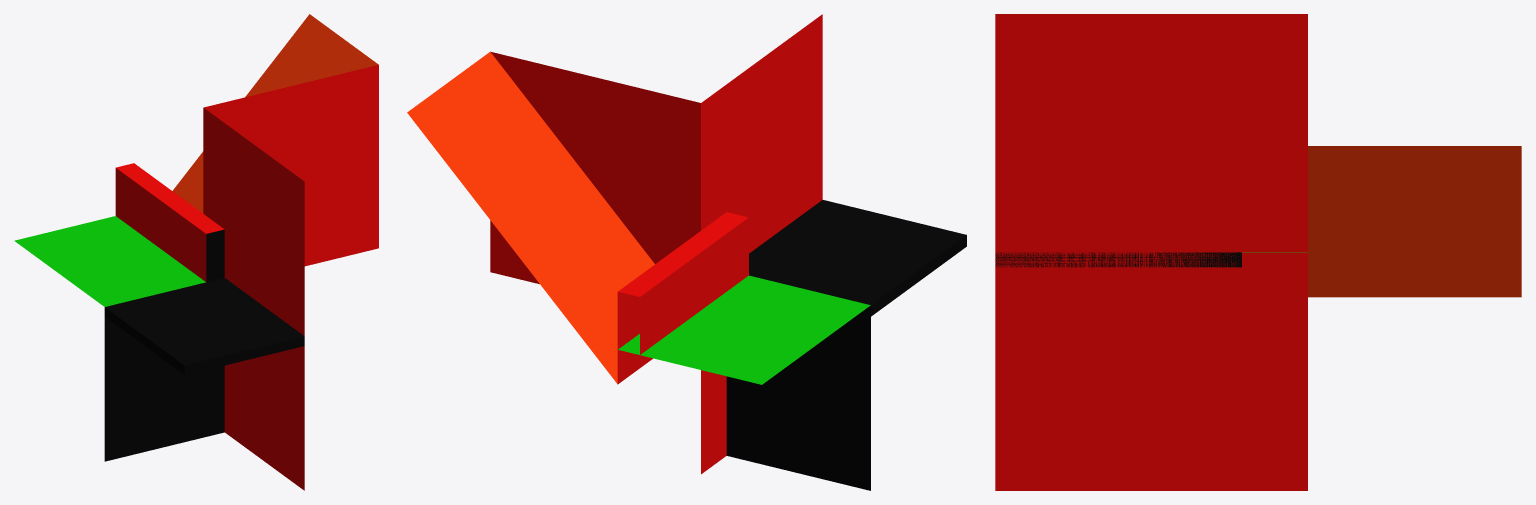
3 views of the same model, side by side, from view 1: azimuth 30°, elevation 25°; view 2: azimuth 150°, elevation 25°; view 3: azimuth 270°, elevation 25° (orthographic). The views are drawn at different scales.
Visible parts, largest first — view 1: None_S_A_E_A_W_P_E_E_None; view 2: None_S_A_E_A_W_P_E_E_None; view 3: None_S_A_E_A_W_P_E_E_None.
Part boxes in pixels (x1,y1,x2,y2): None_S_A_E_A_W_P_E_E_None: (14,14,378,490); None_S_A_E_A_W_P_E_E_None: (407,14,966,490); None_S_A_E_A_W_P_E_E_None: (995,14,1521,490).
Size of the model in its own units: 100 by 100 by 100.
